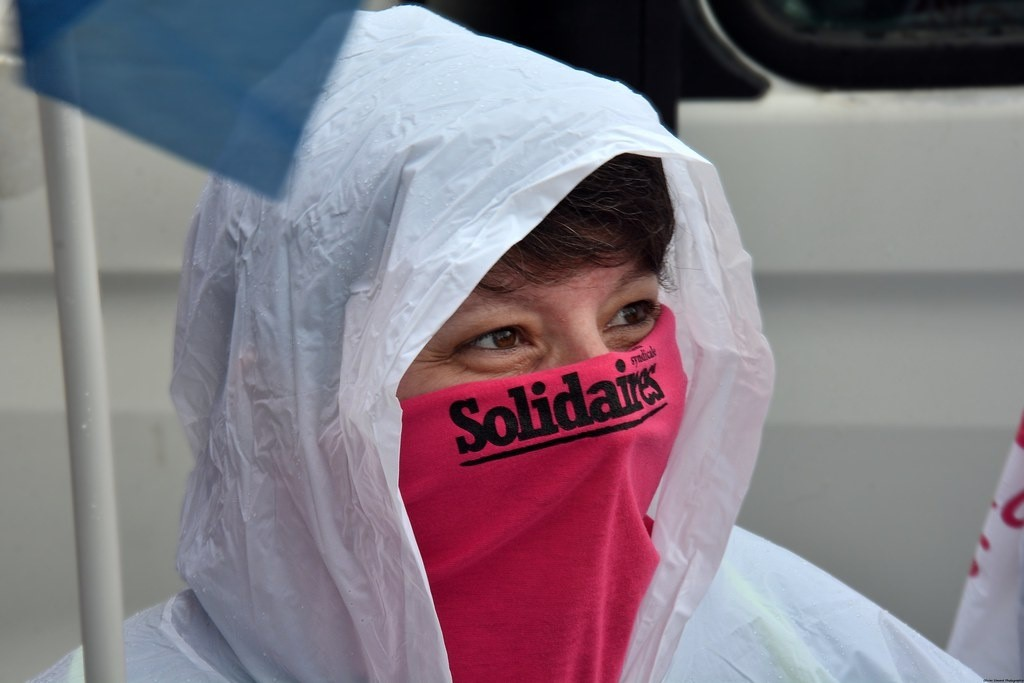face_with_mask: (307, 80, 702, 667)
